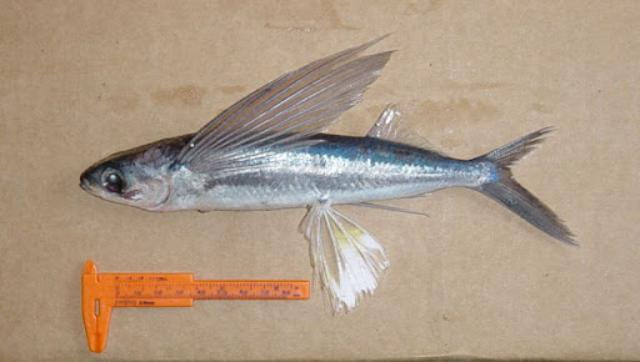Mulut: (57, 149, 105, 211)
Sirip Dada: (160, 23, 400, 185)
Sirip Ekor: (471, 111, 587, 258)
Sirip Perut: (293, 190, 392, 328)
Sirip Punggung: (354, 100, 460, 168)
